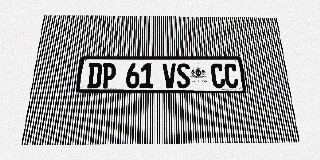1: (140, 63, 153, 88)
6: (126, 63, 140, 88)
C: (210, 63, 225, 88), (224, 63, 239, 88)
D: (87, 63, 102, 88)
P: (101, 63, 116, 88)
S: (176, 63, 190, 88)
V: (163, 63, 176, 88)
